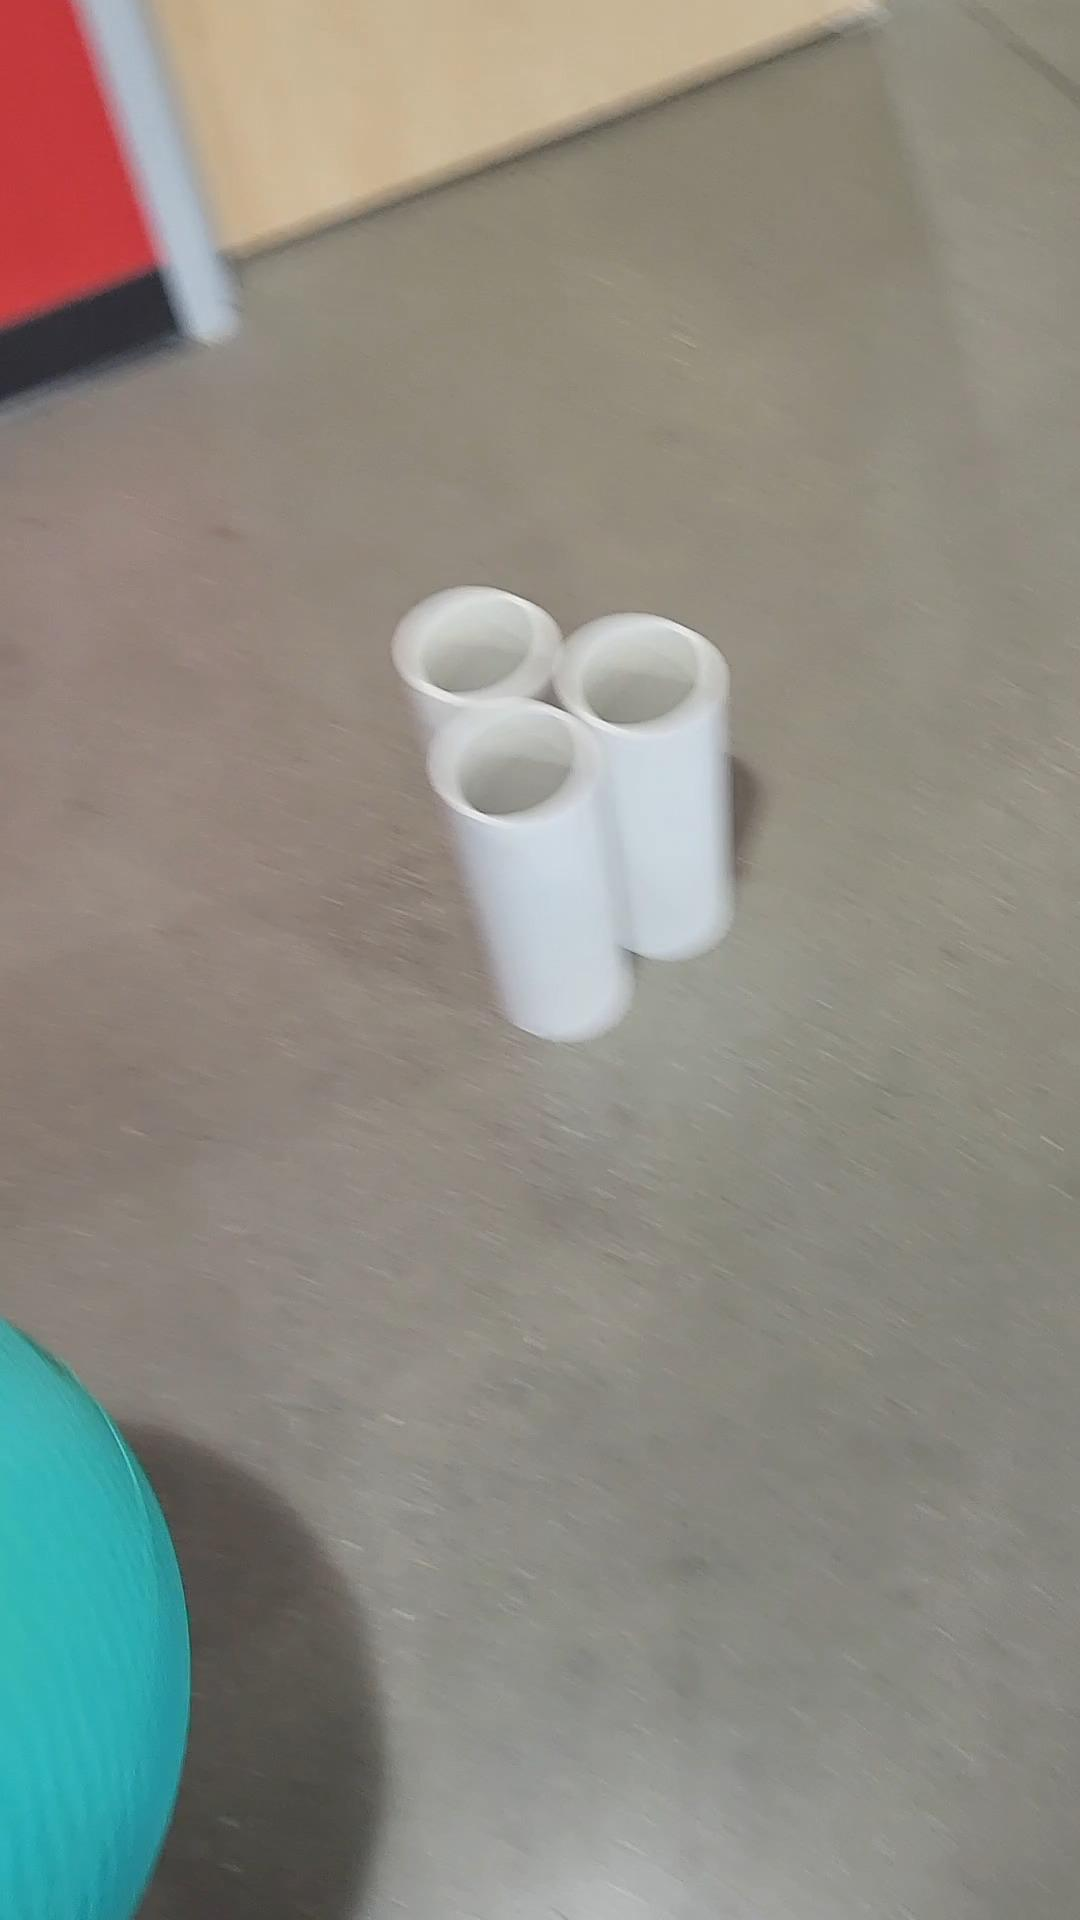algae: (0, 1316, 199, 1920)
coral: (451, 696, 611, 1056), (587, 616, 729, 940), (382, 596, 551, 705)
